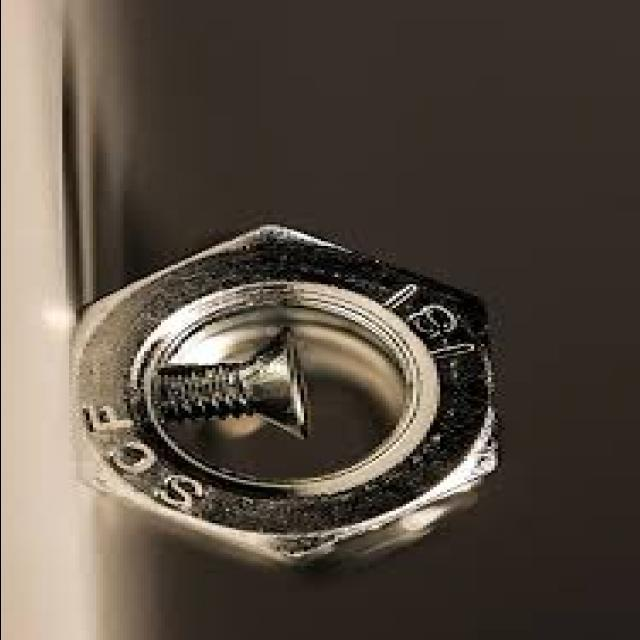nut: (72, 229, 493, 566)
